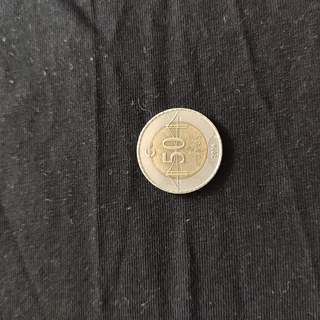50KURUS: (135, 105, 224, 195)
